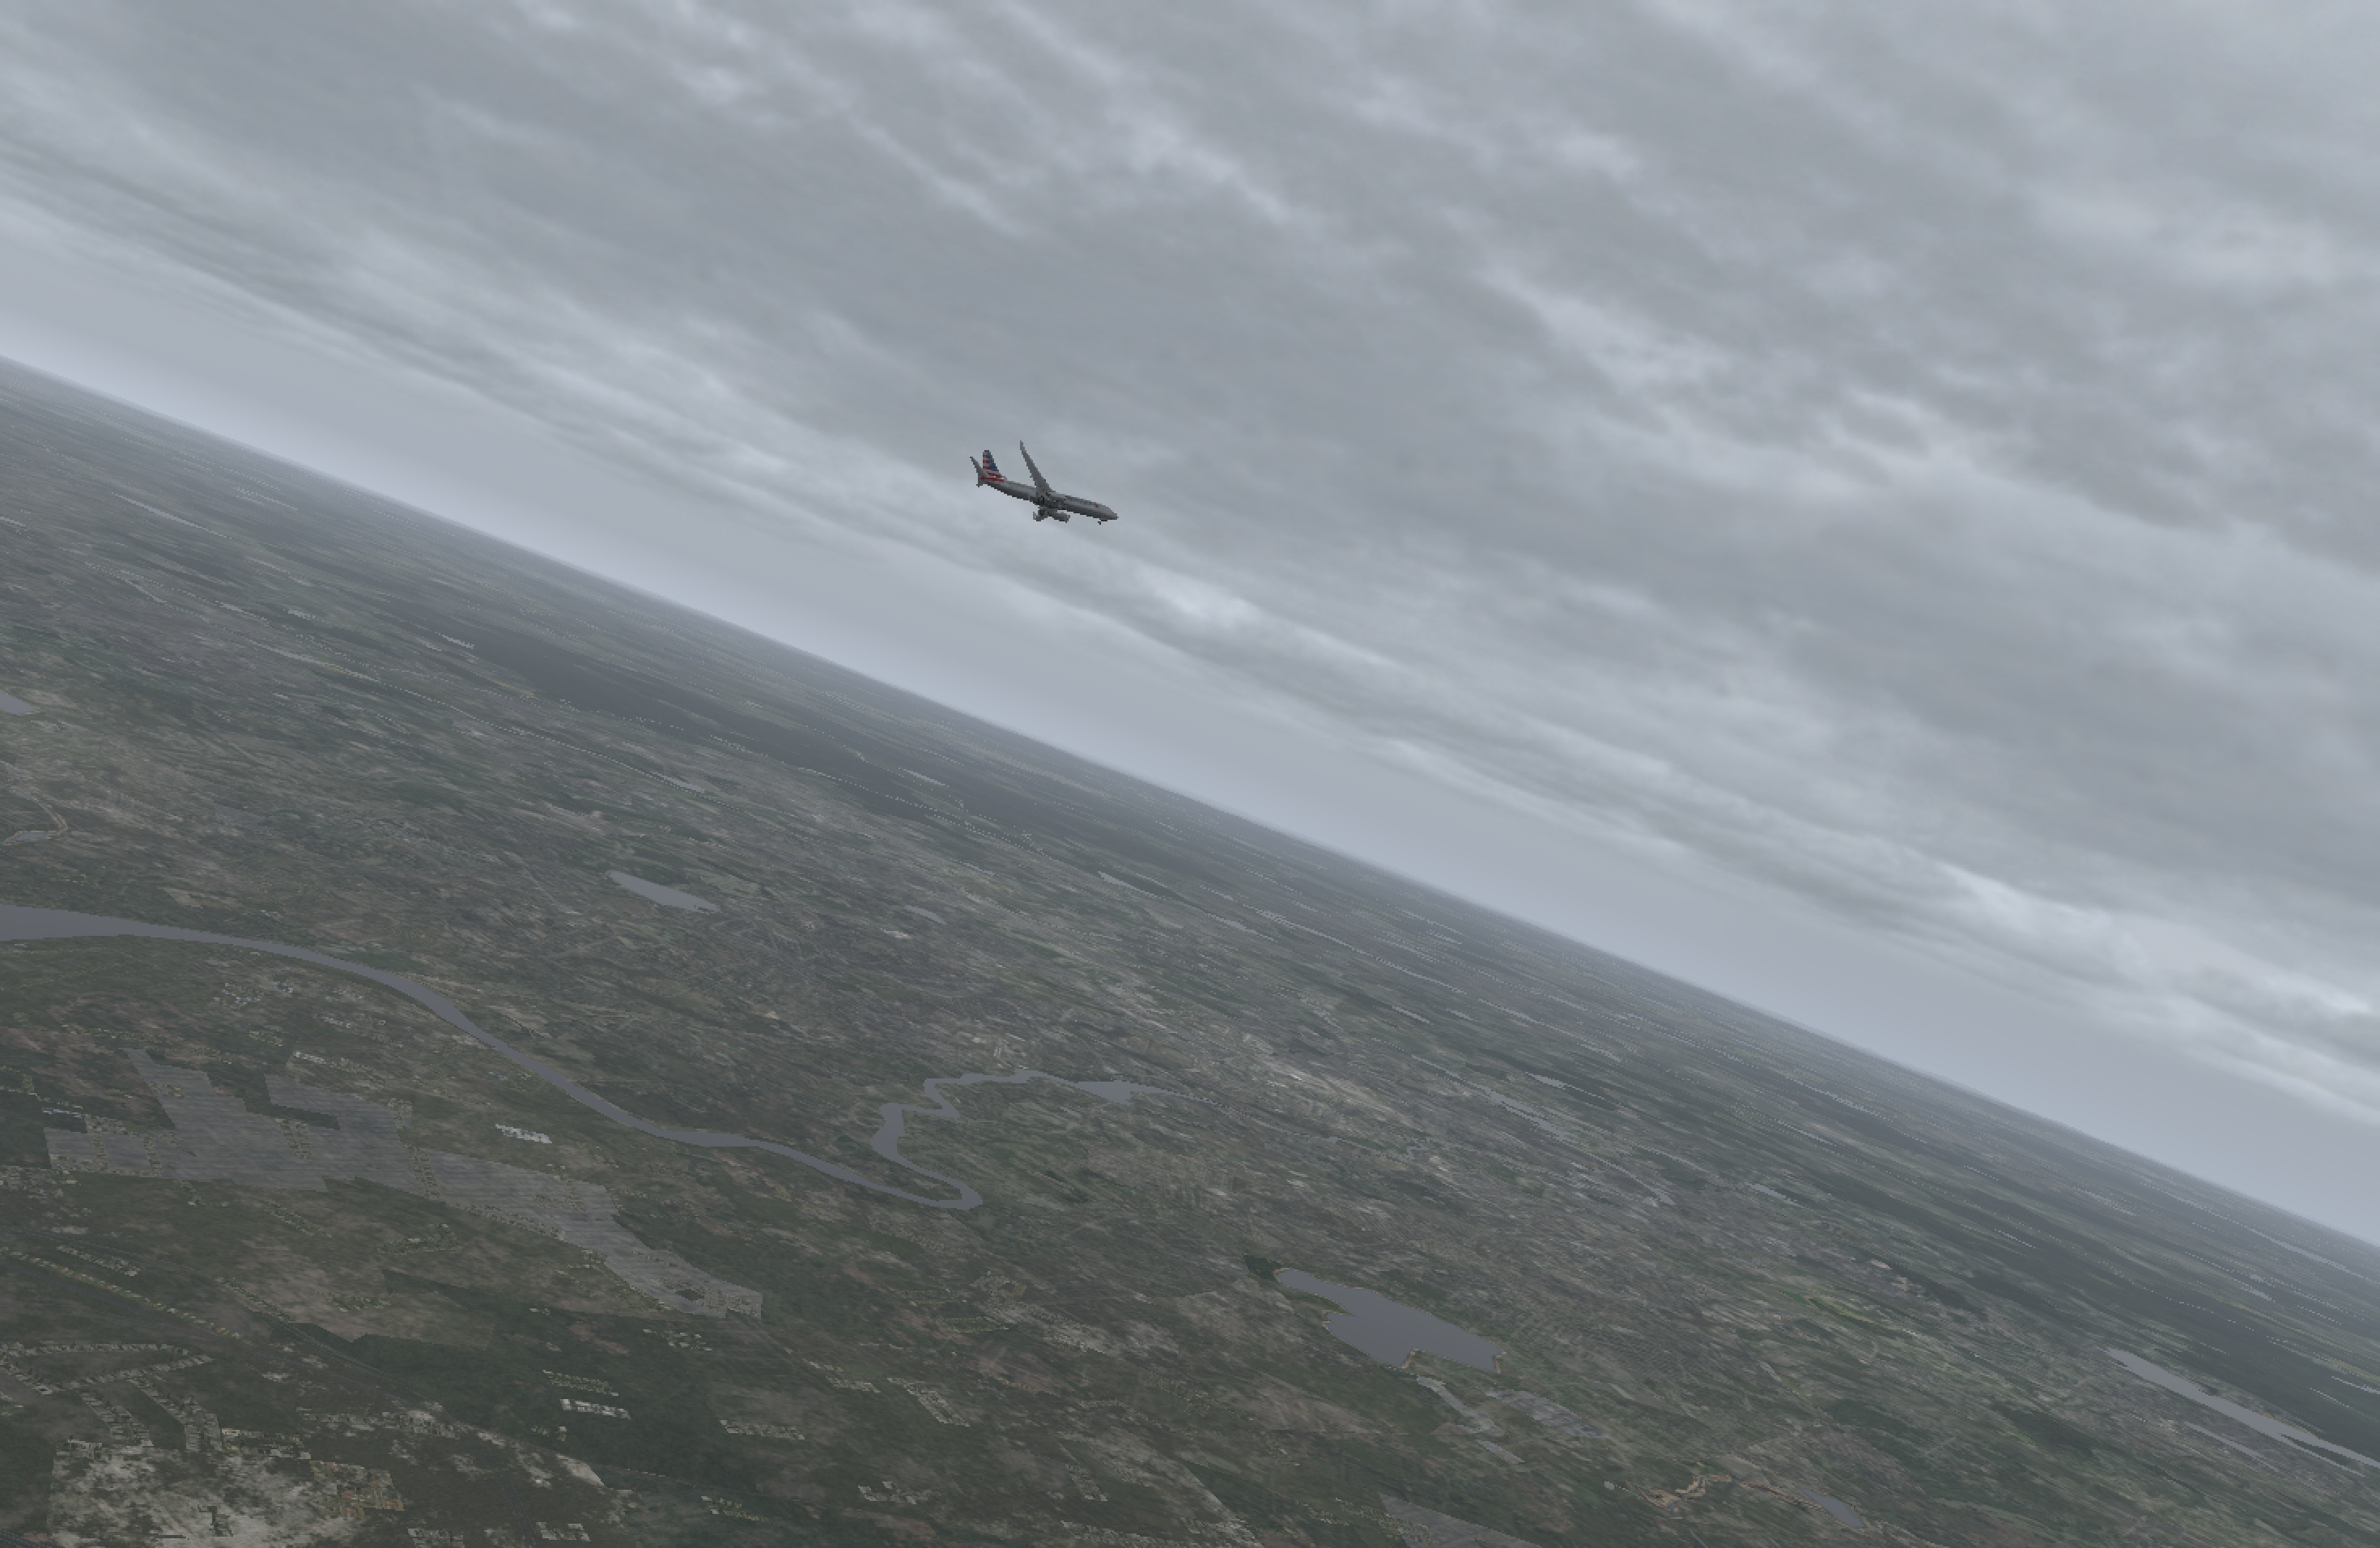aircraft: (973, 472, 1126, 529)
